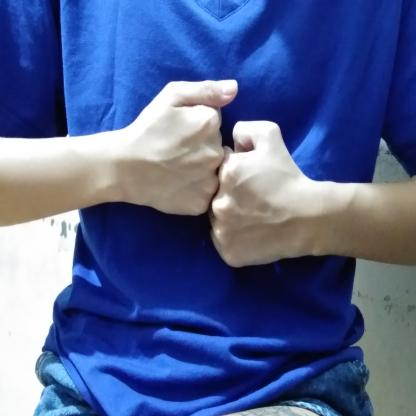brother: (112, 70, 326, 284)
